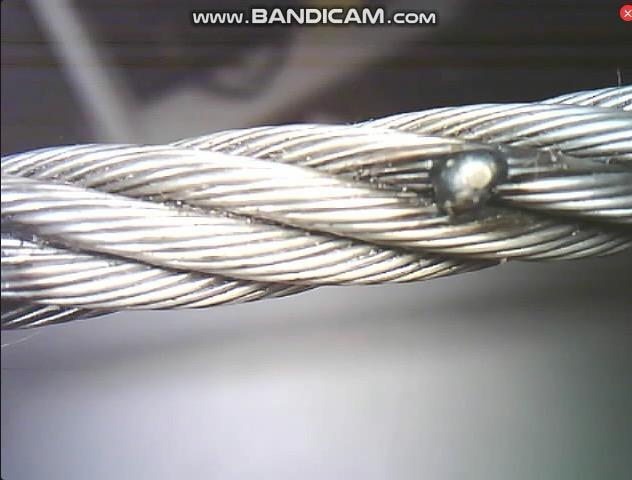thunderbolt: (393, 143, 511, 203)
